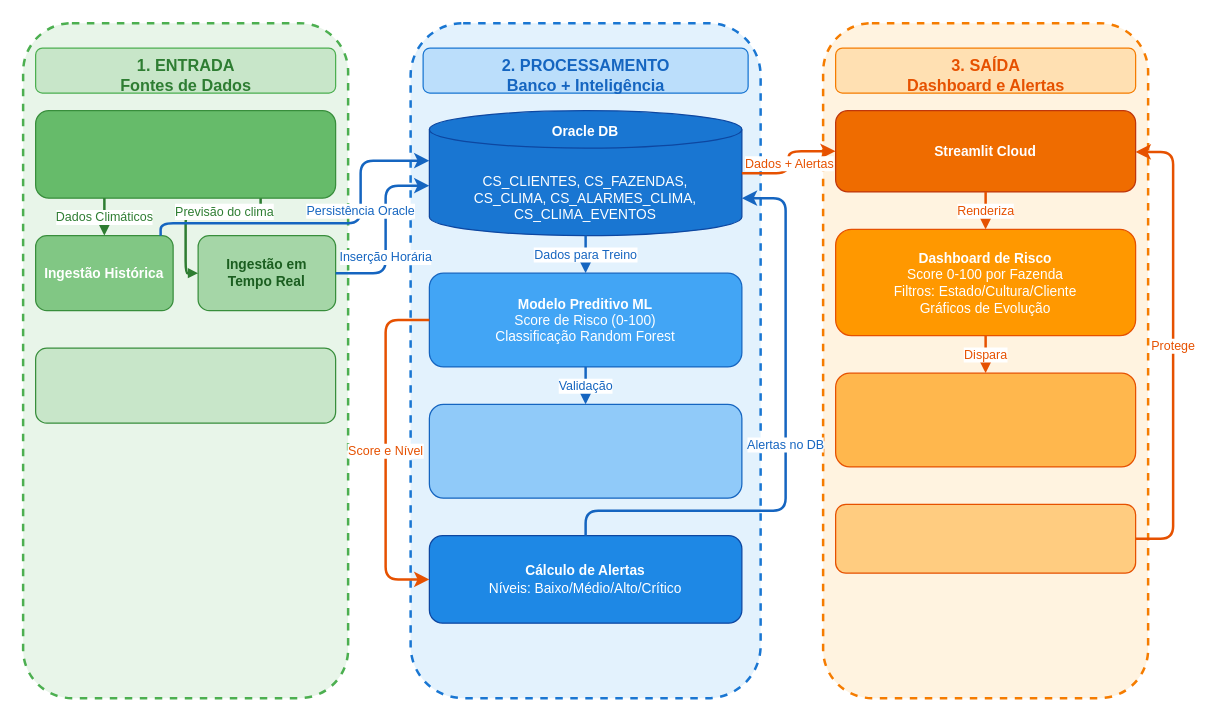
This 1216x720 diagram has some shape labels left out. The shapes that lost their labels are listed below. From the top down, each one's centre as x and y in pixels, then its label:
At (185,153): "Open-Meteo API Dados Climáticos Histórico e Tempo Real".
At (185,385): "Dataset de Eventos Desastres (Cemaden)".
At (985,419): "Painel de Alertas Notificações por Nível Recomendações Preventivas".
At (585,450): "Análise de Correlação Validação Estatística Matriz de Confusão + Erro Médio".
At (985,538): "Autenticação Google OAuth".
